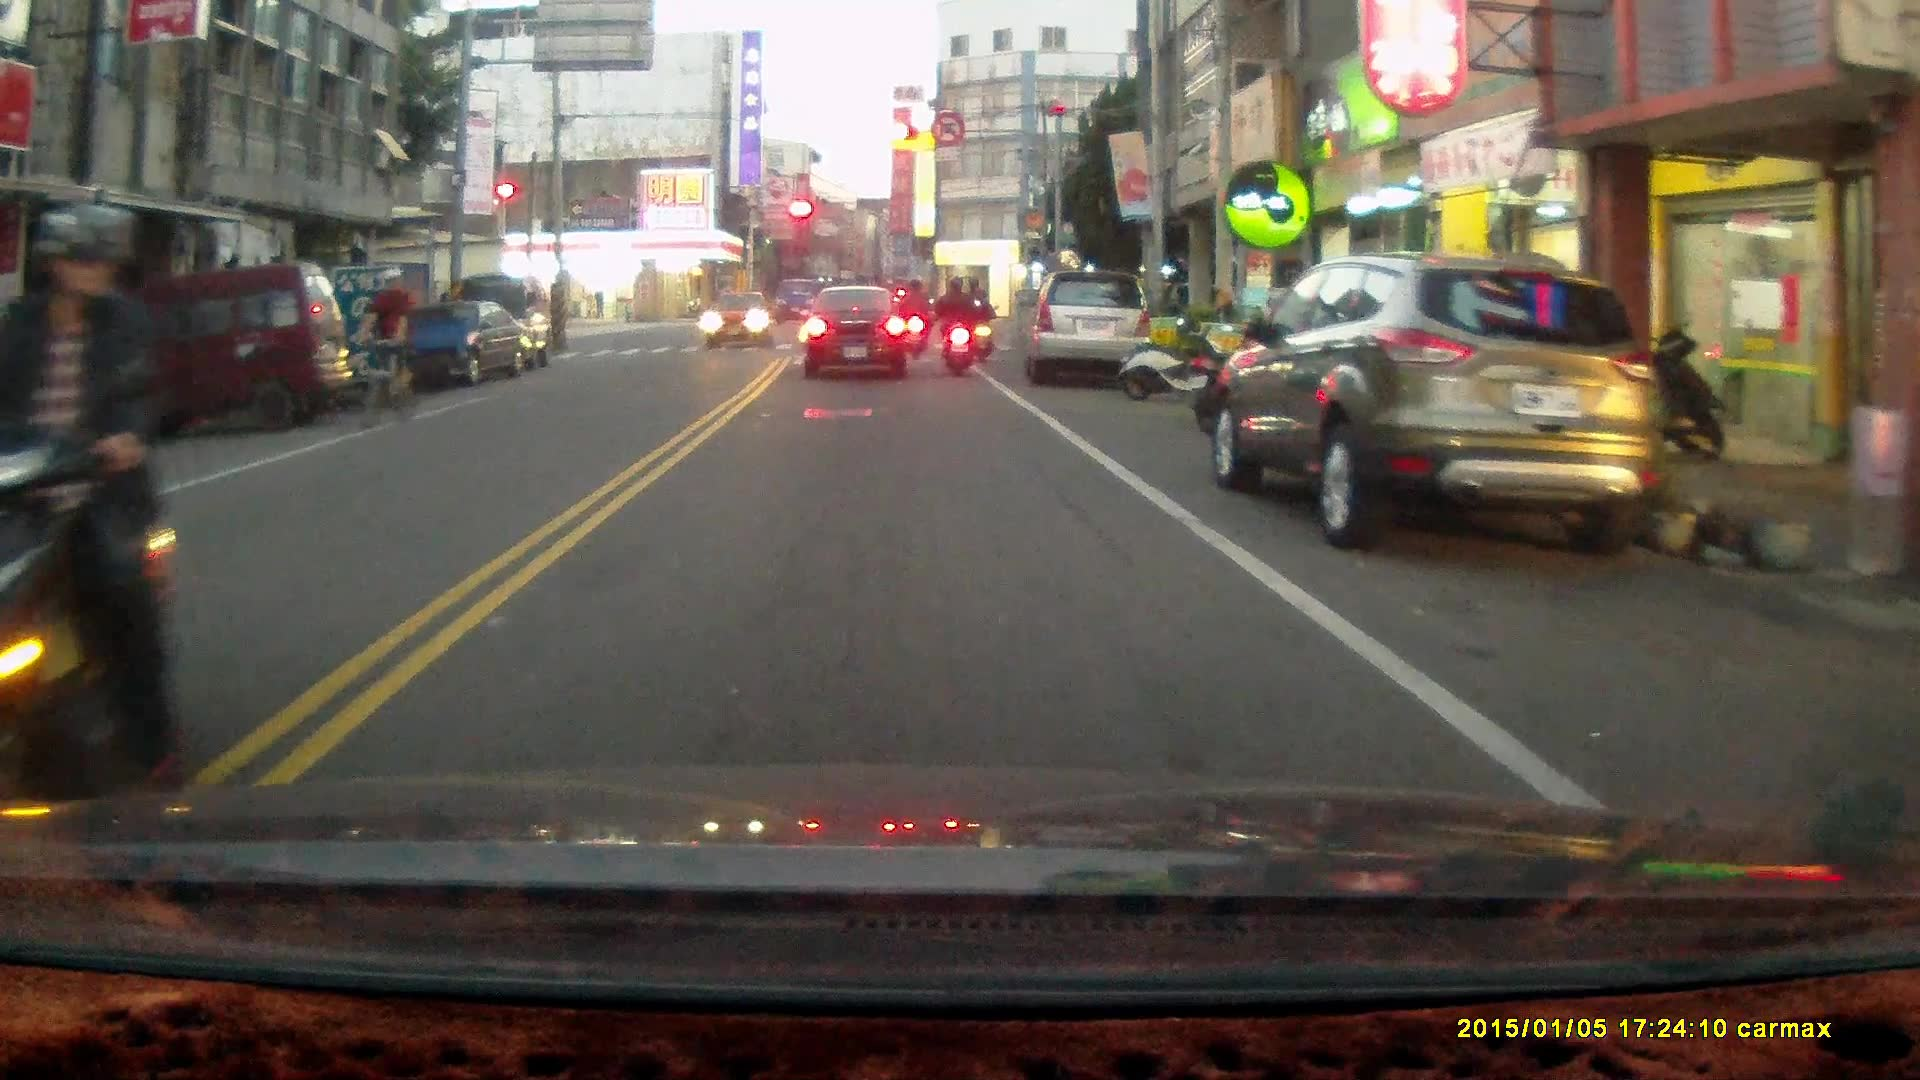rider: (0, 200, 191, 859), (358, 269, 416, 429), (930, 271, 978, 377), (895, 273, 930, 358), (965, 284, 995, 363)
vehicle: (1209, 254, 1652, 559), (88, 261, 358, 436), (1025, 270, 1156, 389), (403, 297, 525, 388), (804, 282, 913, 380), (702, 289, 774, 352)
